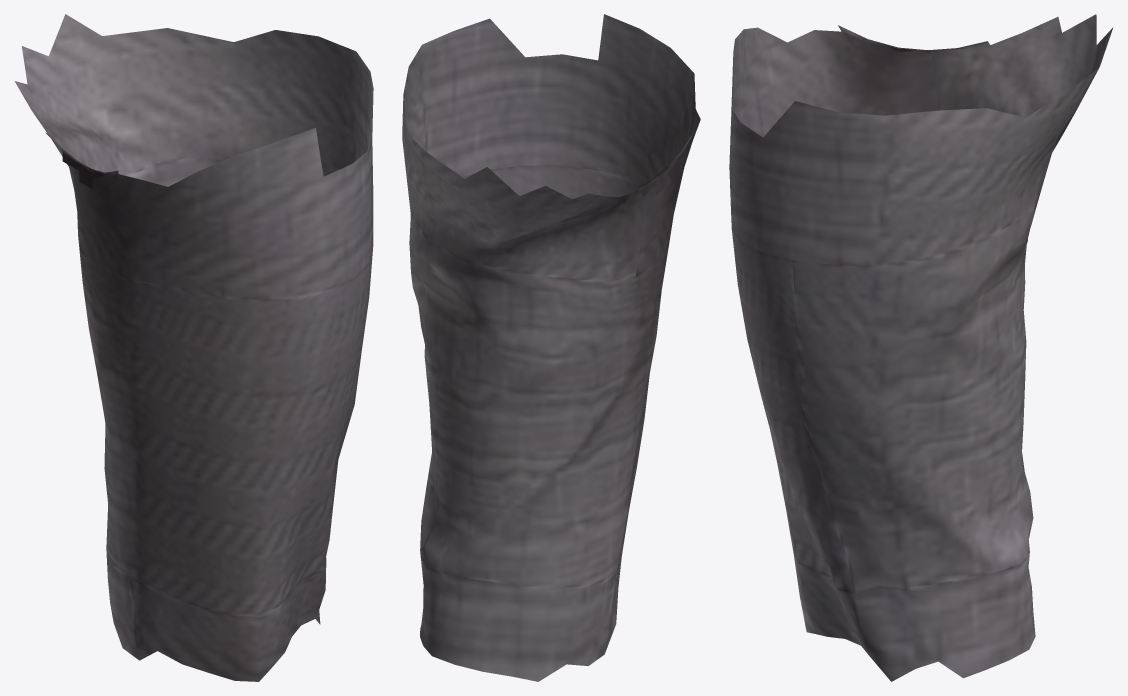
Rendered from ProfesorLeftLeg.obj.
3 renders of one model, left to right at view 1: azimuth 30°, elevation 25°; view 2: azimuth 150°, elevation 25°; view 3: azimuth 270°, elevation 25°, orthographic. The views are drawn at different scales.
Parts seen in each view (by area): view 1: ProfesorLeftLeg; view 2: ProfesorLeftLeg; view 3: ProfesorLeftLeg.
Boxes of the visible parts, x1,y1,x2,y2 form: ProfesorLeftLeg: [14, 14, 373, 681]; ProfesorLeftLeg: [402, 14, 700, 681]; ProfesorLeftLeg: [729, 14, 1113, 681].
Size of the model in its own units: 18.11 by 38.22 by 22.51.
1 material, 1 textured.
